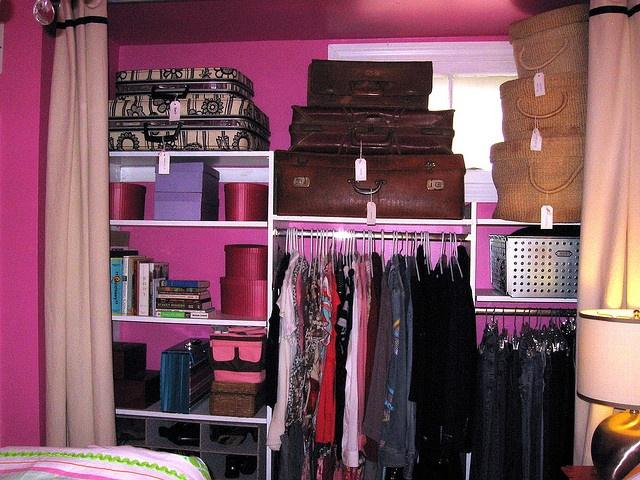Rak: (106, 148, 271, 420)
